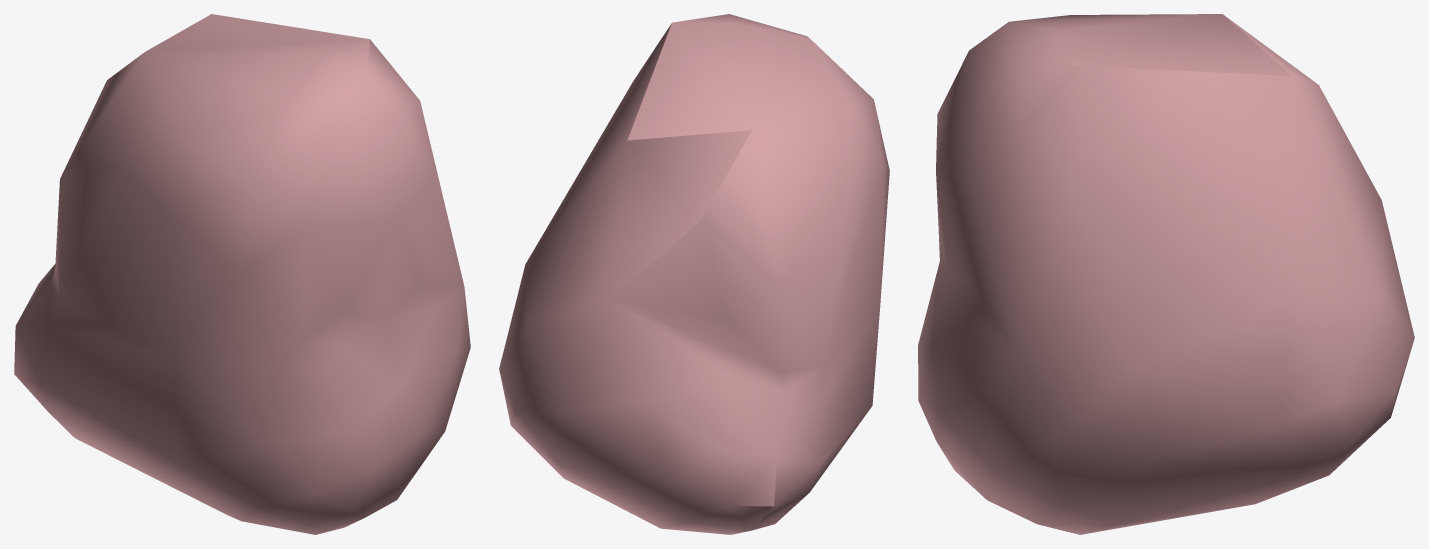
File: fma16981_fj2624.glb
The picture shows the model from 3 angles, left to right: view 1: azimuth 30°, elevation 25°; view 2: azimuth 150°, elevation 25°; view 3: azimuth 270°, elevation 25°; orthographic projection. The views are drawn at different scales.
Parts seen in each view (by area): view 1: FMA16981_FJ2624; view 2: FMA16981_FJ2624; view 3: FMA16981_FJ2624.
Boxes of the visible parts, x1,y1,x2,y2 form: FMA16981_FJ2624: (14,14,470,534); FMA16981_FJ2624: (499,14,889,534); FMA16981_FJ2624: (918,14,1414,534).
Bounding box in the file's own units: 0.0223 × 0.0289 × 0.0266.
